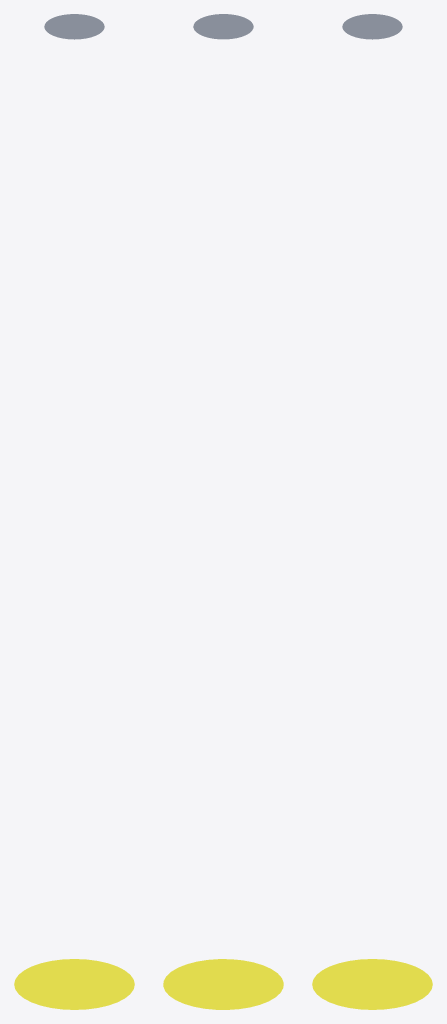
Rendered from SunAndMoon.fbx.
3 views of the same model, side by side, from view 1: azimuth 90°, elevation 25°; view 2: azimuth 150°, elevation 25°; view 3: azimuth 270°, elevation 25° (orthographic).
Parts seen in each view (by area): view 1: Circle; view 2: Circle; view 3: Circle.
Boxes of the visible parts, x1,y1,x2,y2 form: Circle: (14, 14, 134, 1009); Circle: (163, 14, 283, 1009); Circle: (312, 14, 432, 1009).
Bounding box in the file's own units: 4 × 35 × 4.
Materials: 1 (1 with a texture image).
